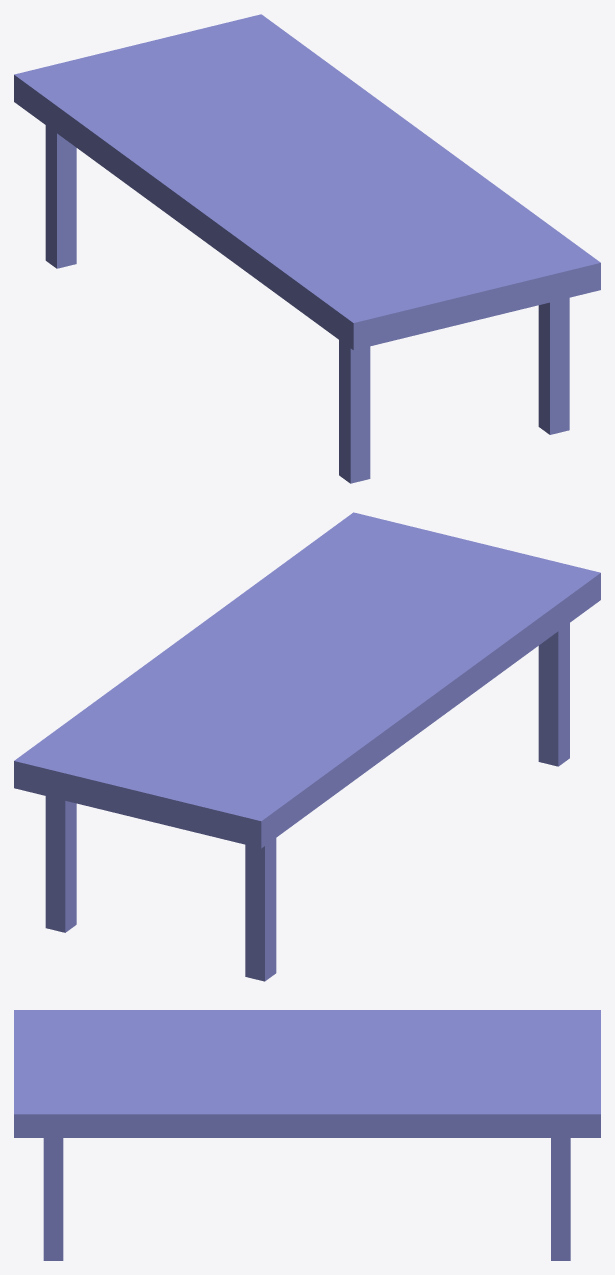
File: mesa.fbx
3 renders of one model, top to bottom at view 1: azimuth 30°, elevation 25°; view 2: azimuth 150°, elevation 25°; view 3: azimuth 270°, elevation 25°, orthographic. The views are drawn at different scales.
Parts seen in each view (by area): view 1: Mesa; view 2: Mesa; view 3: Mesa.
Boxes of the visible parts, bbox=[...] form: Mesa: bbox=[14, 14, 600, 483]; Mesa: bbox=[14, 512, 600, 981]; Mesa: bbox=[14, 1010, 600, 1260].
Bounding box in the file's own units: 1156 × 788 × 2747.
